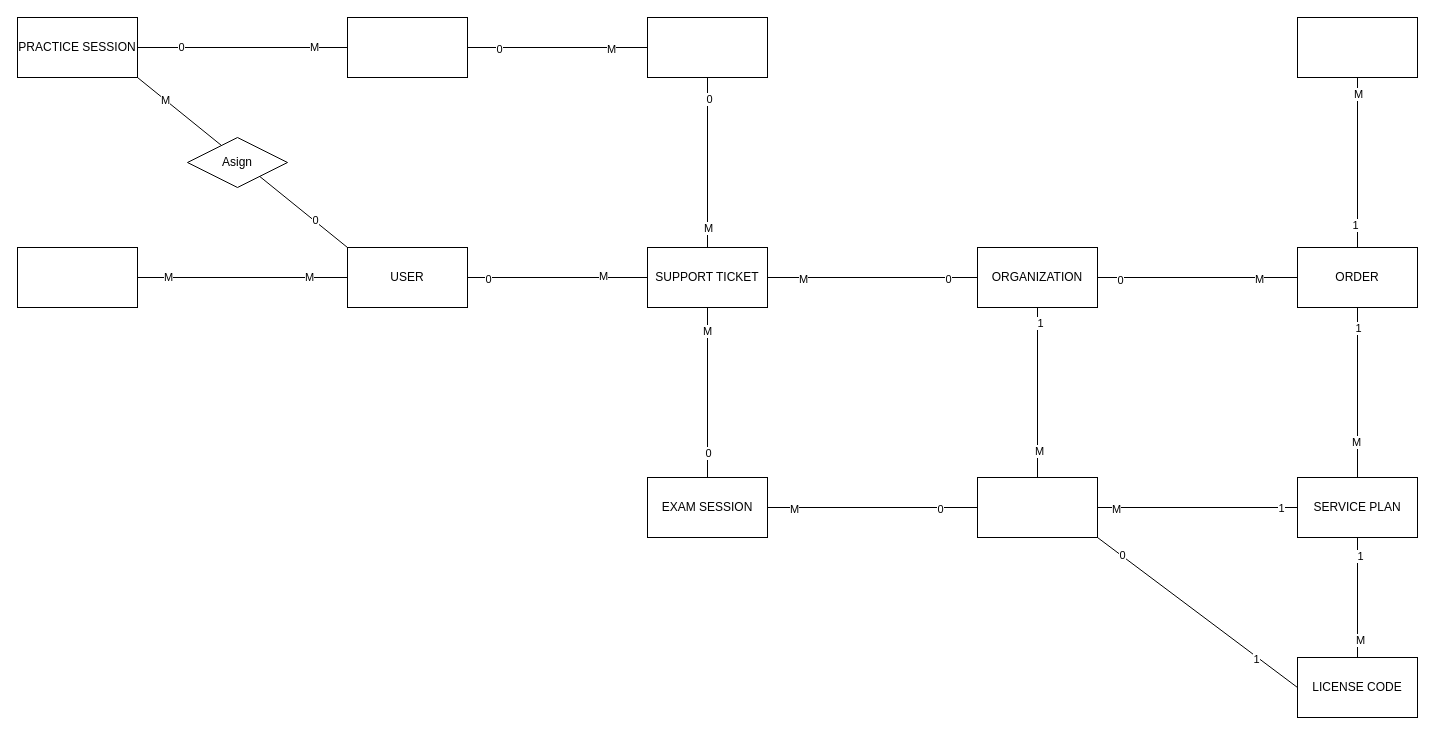
This 1435x735 diagram has some shape labels left out. Each missing label, with the box of its shape:
NOTIFICATION: (16, 246, 138, 308)
ORDER NOTIFICATION: (1296, 16, 1418, 78)
PRACTICE RESPONSE: (346, 16, 468, 78)
QUESTION: (646, 16, 768, 78)
SUBSCRIPTION: (976, 476, 1098, 538)
